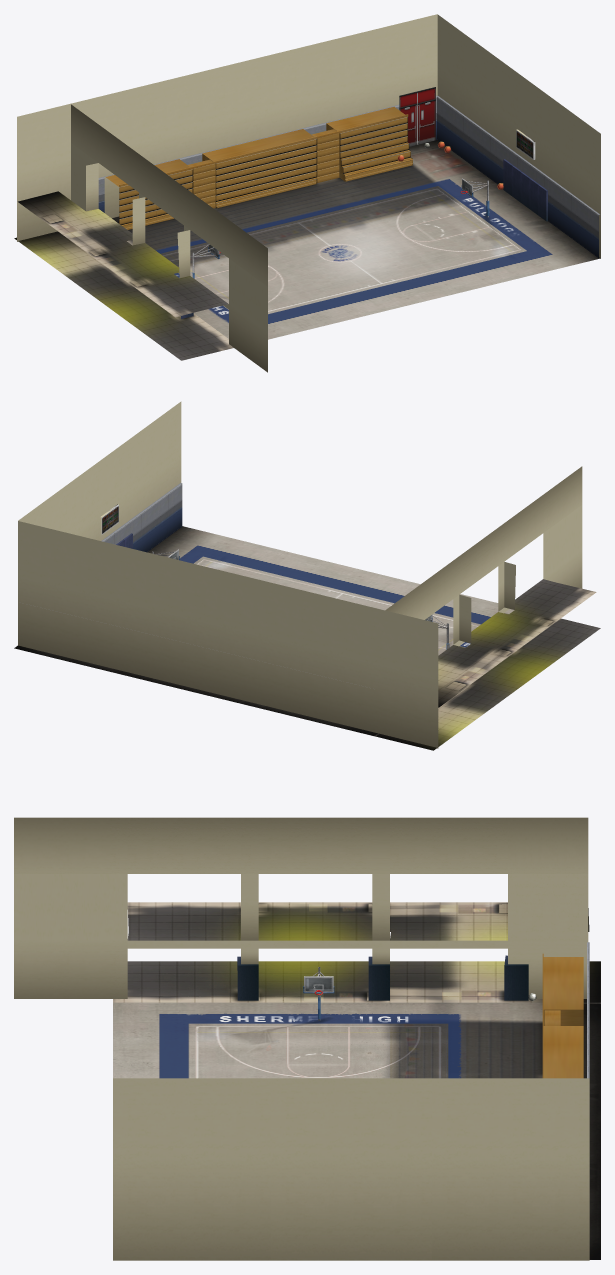
Rendered from court_shermer_mesh.fbx.
The picture shows the model from 3 angles, top to bottom: view 1: azimuth 30°, elevation 25°; view 2: azimuth 150°, elevation 25°; view 3: azimuth 270°, elevation 25°; orthographic projection. The views are drawn at different scales.
Visible parts, largest first — view 1: court_shermer_mesh; view 2: court_shermer_mesh; view 3: court_shermer_mesh.
Part boxes in pixels (x1,y1,x2,y2): court_shermer_mesh: [14, 14, 600, 372]; court_shermer_mesh: [14, 401, 600, 750]; court_shermer_mesh: [14, 817, 600, 1260].
Bounding box in the file's own units: 143 × 40.59 × 118.
